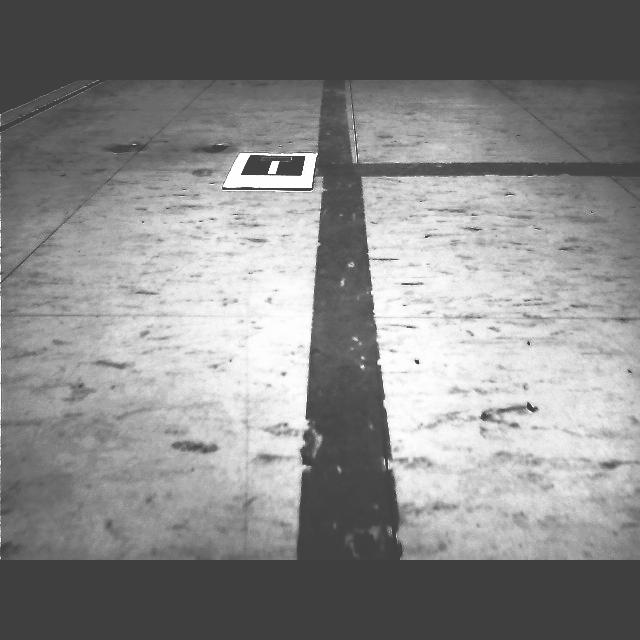DEAD END: (240, 154, 305, 176)
